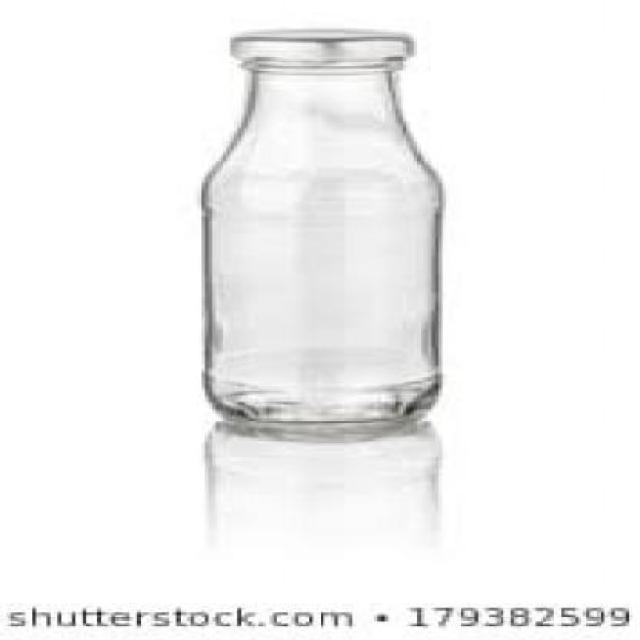kaca: (198, 29, 438, 428)
